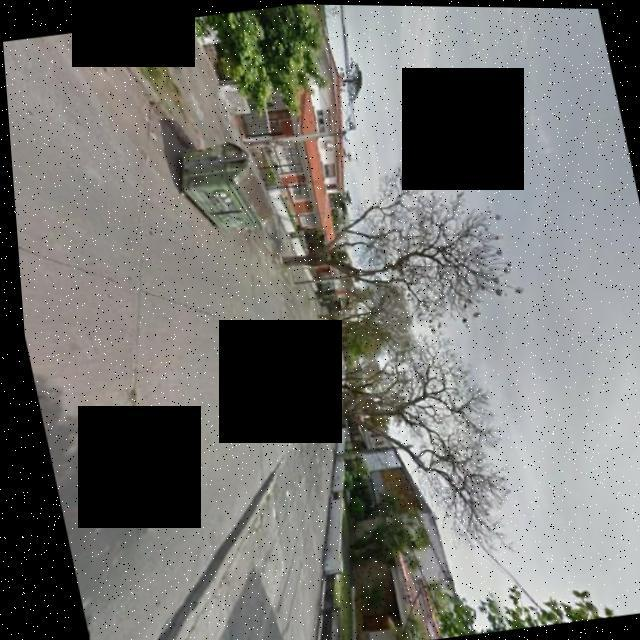bin: (150, 125, 283, 247)
